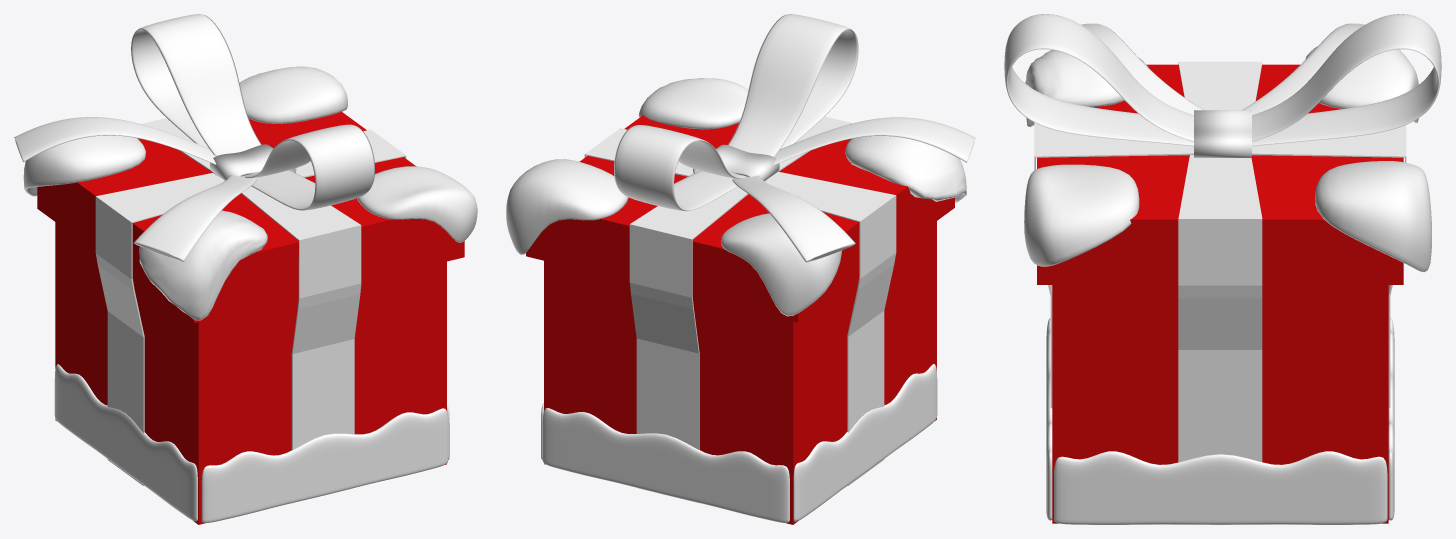
File: box_christmas.fbx
3 renders of one model, left to right at view 1: azimuth 30°, elevation 25°; view 2: azimuth 150°, elevation 25°; view 3: azimuth 270°, elevation 25°, orthographic. The views are drawn at different scales.
Parts seen in each view (by area): view 1: Plane.020, Cube.021, Cube.024, Plane.021, Cube.022; view 2: Plane.020, Cube.021, Cube.024, Plane.021, Cube.022; view 3: Plane.020, Cube.021, Plane.021, Cube.024, Cube.022.
Boxes of the visible parts, <box> form: Plane.020: <box>14,14,406,503</box>; Cube.021: <box>55,222,446,524</box>; Cube.024: <box>54,364,449,522</box>; Plane.021: <box>23,66,477,320</box>; Cube.022: <box>37,112,464,323</box>; Plane.020: <box>584,14,975,503</box>; Cube.021: <box>544,221,936,524</box>; Cube.024: <box>541,364,937,522</box>; Plane.021: <box>506,78,966,316</box>; Cube.022: <box>526,115,954,322</box>; Plane.020: <box>1004,14,1441,462</box>; Cube.021: <box>1052,285,1388,523</box>; Plane.021: <box>1024,46,1431,272</box>; Cube.024: <box>1046,318,1394,524</box>; Cube.022: <box>1037,64,1403,284</box>.
Bounding box in the file's own units: 265 × 280 × 260.
